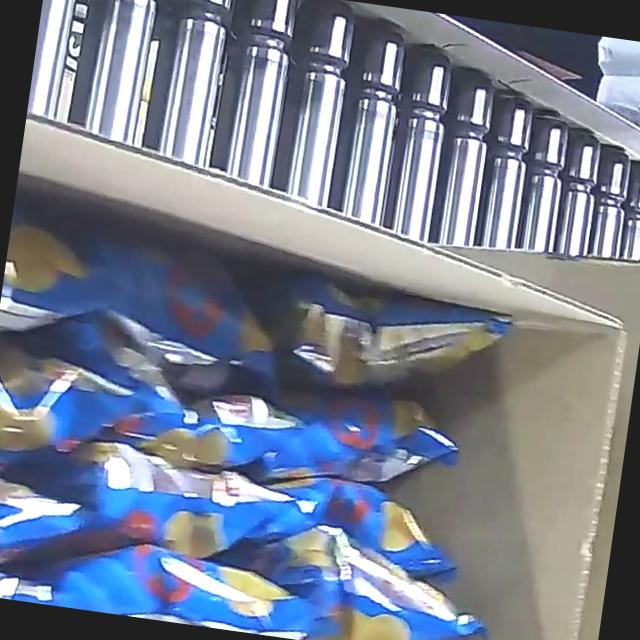paprika: (0, 172, 546, 640)
